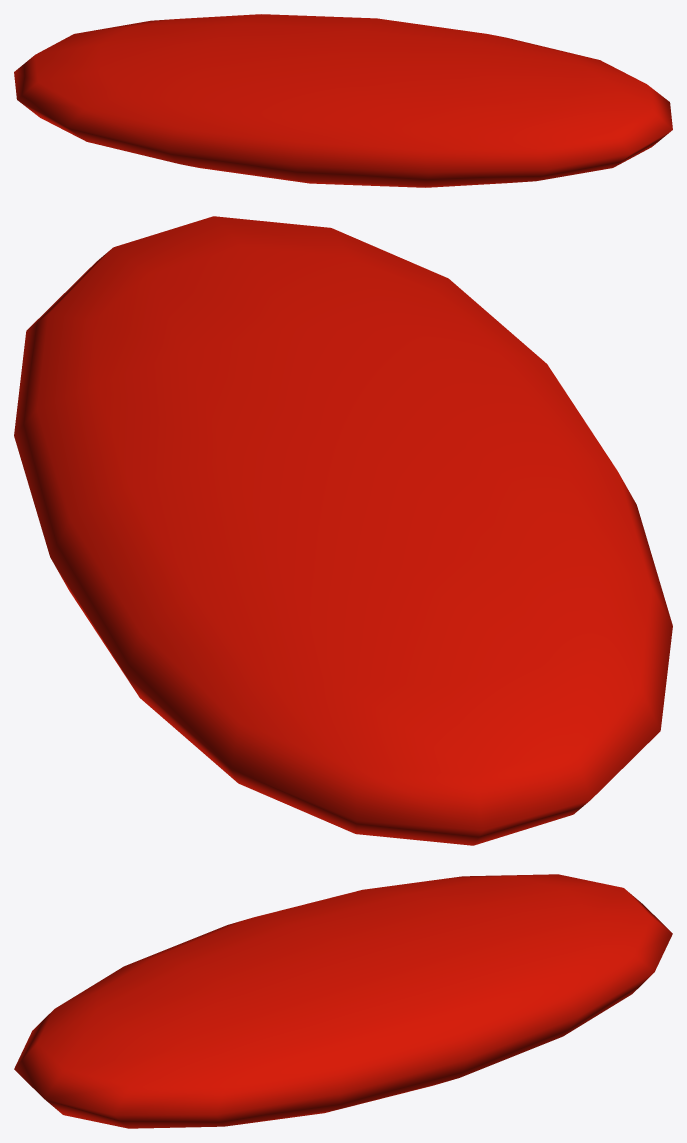
File: field.fbx
3 renders of one model, top to bottom at view 1: azimuth 30°, elevation 25°; view 2: azimuth 150°, elevation 25°; view 3: azimuth 270°, elevation 25°, orthographic. The views are drawn at different scales.
Visible parts, largest first — view 1: Cube.038; view 2: Cube.038; view 3: Cube.038.
Part boxes in pixels (box(x1,y1,x2,y2)): Cube.038: box(14, 14, 672, 187); Cube.038: box(14, 216, 672, 845); Cube.038: box(14, 874, 672, 1128).
Size of the model in its own units: 615 by 131 by 655.
